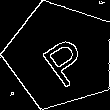P_NW: (30, 24, 91, 86)
